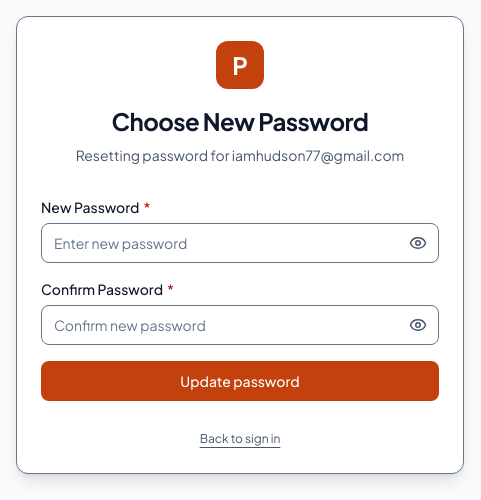
Test: ResetPasswordPage Component Flow › renders form and allows setting new password when token is in URL query
Expected: the text "Resetting password for iamhudson77@gmail.com" is shown, 76,146 -> 404,164
Type "NewSuperPass2026!" into the password field with placeholder "Enter new password".
click(240, 243); type("NewSuperPass2026!")  # box 41,223 -> 439,263
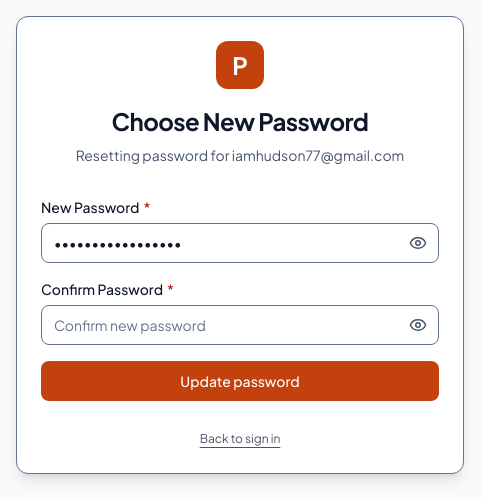
Type "NewSuperPass2026!" into the password field with placeholder "Confirm new password".
click(240, 325); type("NewSuperPass2026!")  # box 41,305 -> 439,345
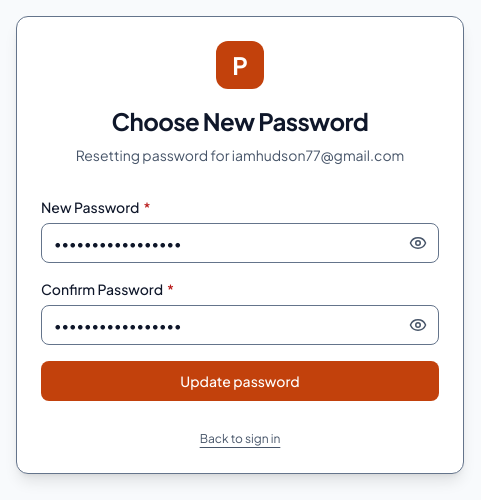
Click the button "Update password".
click(240, 381)  # box 41,361 -> 439,401
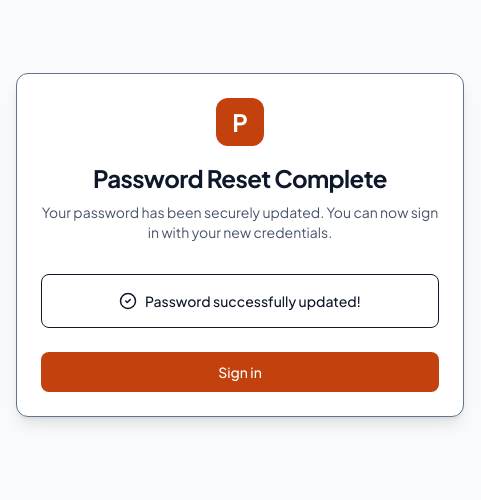
Expected: the text "Password successfully updated!" is shown, 145,291 -> 361,311
